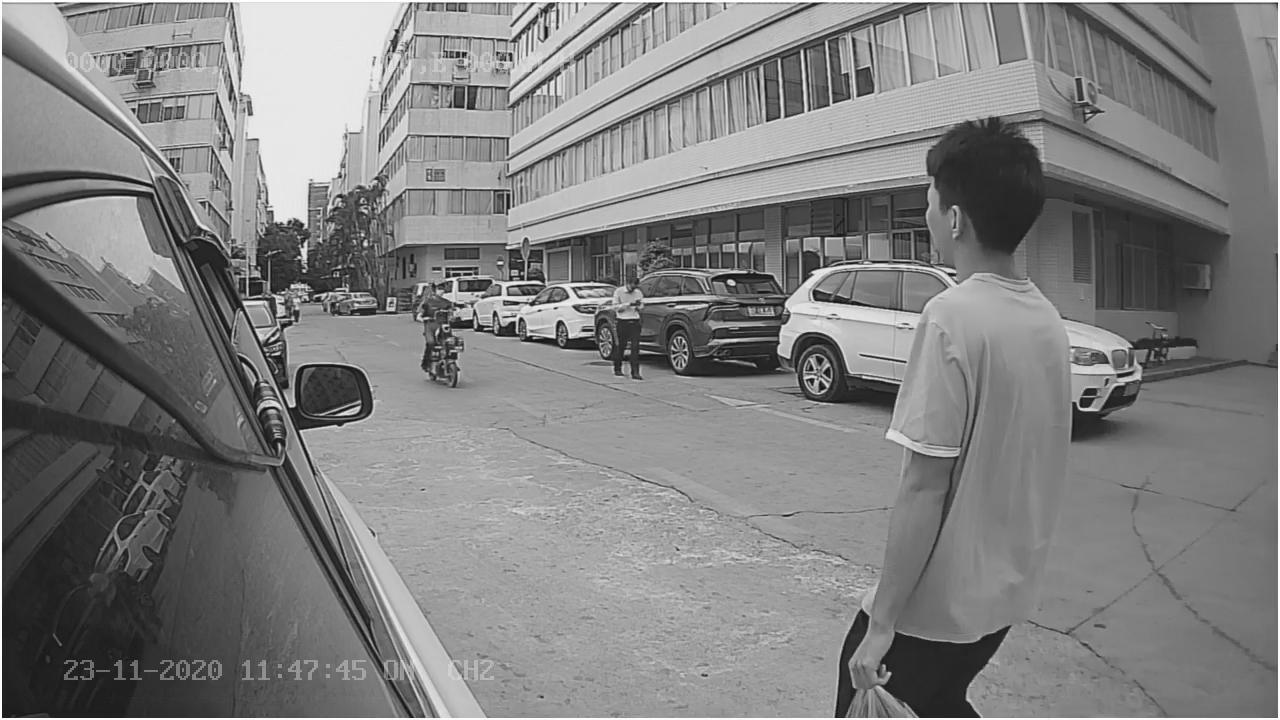person: (883, 117, 1099, 551)
